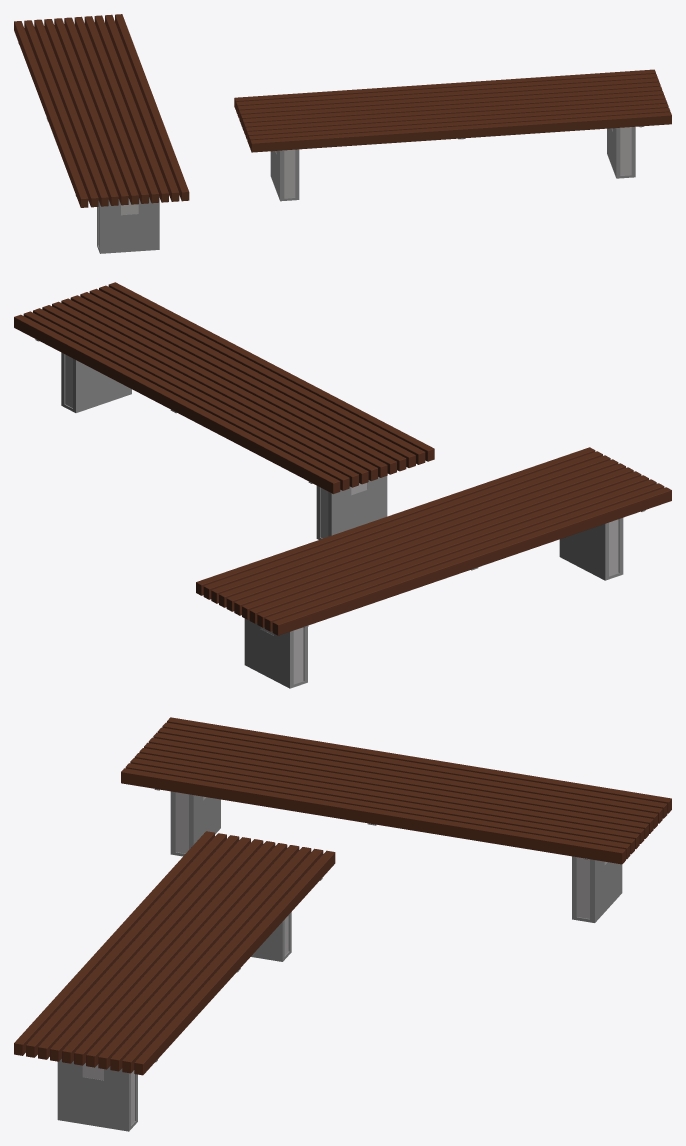
The model's file is lightbank.obj.
3 renders of one model, top to bottom at view 1: azimuth 30°, elevation 25°; view 2: azimuth 150°, elevation 25°; view 3: azimuth 270°, elevation 25°, orthographic. The views are drawn at different scales.
Parts seen in each view (by area): view 1: maderas_banco.001_Cube, maderas_banco_Cube.007, bancoluz_Cube.003, bancoluz.001_Cube.001; view 2: maderas_banco_Cube.007, maderas_banco.001_Cube, bancoluz_Cube.003, bancoluz.001_Cube.001; view 3: maderas_banco_Cube.007, maderas_banco.001_Cube, bancoluz.001_Cube.001, bancoluz_Cube.003.
Part boxes in pixels (x1,y1,x2,y2): maderas_banco.001_Cube: (234, 69, 671, 152); maderas_banco_Cube.007: (14, 14, 189, 207); bancoluz_Cube.003: (18, 42, 159, 253); bancoluz.001_Cube.001: (270, 126, 643, 201); maderas_banco_Cube.007: (196, 447, 671, 635); maderas_banco.001_Cube: (14, 282, 434, 493); bancoluz_Cube.003: (244, 510, 645, 688); bancoluz.001_Cube.001: (35, 339, 387, 539); maderas_banco_Cube.007: (121, 717, 671, 864); maderas_banco.001_Cube: (14, 831, 335, 1075); bancoluz.001_Cube.001: (57, 878, 322, 1131); bancoluz_Cube.003: (154, 789, 622, 922).
Size of the model in its own units: 3.87 by 0.4611 by 3.1.
